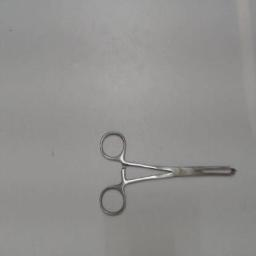Allis Tissue Forceps: (94, 126, 242, 220)
